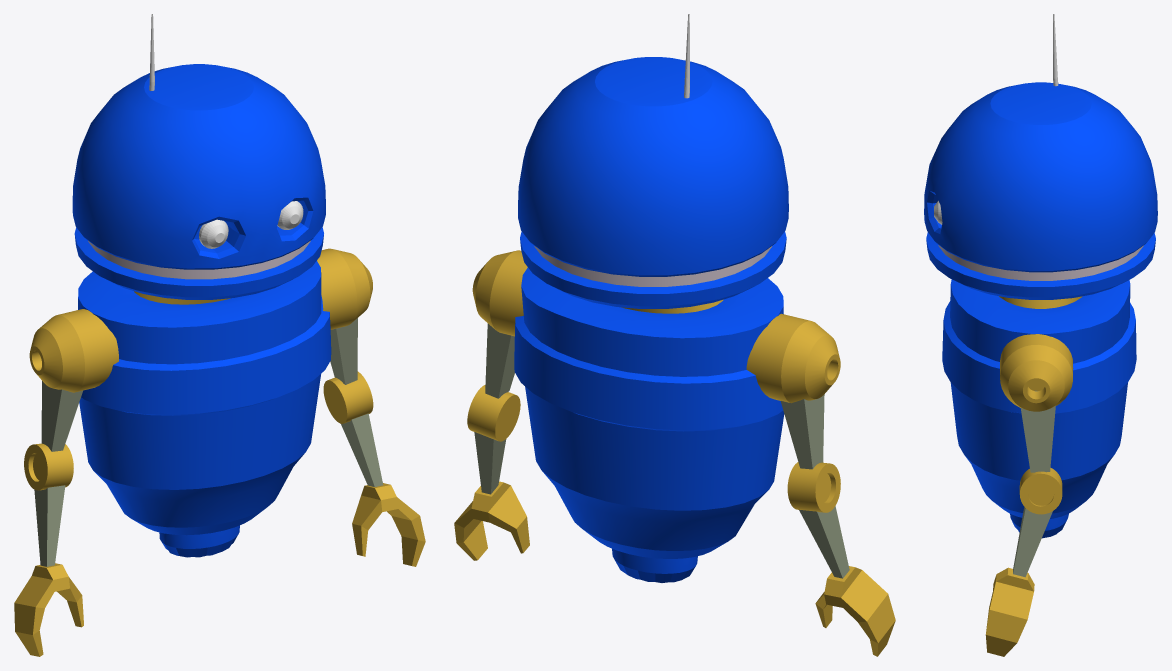
The model's file is robotBody.fbx.
The picture shows the model from 3 angles, left to right: view 1: azimuth 30°, elevation 25°; view 2: azimuth 150°, elevation 25°; view 3: azimuth 270°, elevation 25°; orthographic projection. The views are drawn at different scales.
Parts seen in each view (by area): view 1: Circle, Circle.002, Cube.004, Circle.003, Cube.005, Cube.001, Cylinder.001, Cube.002, Cylinder, Cube.003, Cube, Circle.005; view 2: Circle, Circle.002, Cube.004, Cube.005, Circle.003, Cube.001, Cylinder.001, Cylinder, Cube.002, Cube, Cube.003; view 3: Circle, Circle.003, Cube.005, Cube, Cylinder, Cube.003.
Part boxes in pixels (<box>): Circle: <box>72,64,331,557</box>; Circle.002: <box>29,309,118,392</box>; Cube.004: <box>14,563,83,656</box>; Circle.003: <box>317,248,372,329</box>; Cube.005: <box>352,483,425,566</box>; Cube.001: <box>41,381,82,451</box>; Cylinder.001: <box>24,443,73,490</box>; Cube.002: <box>34,485,65,566</box>; Cylinder: <box>323,371,373,423</box>; Cube.003: <box>341,413,383,486</box>; Cube: <box>330,318,357,384</box>; Circle.005: <box>199,219,228,248</box>; Circle: <box>514,57,788,582</box>; Circle.002: <box>746,313,840,403</box>; Cube.004: <box>815,566,895,656</box>; Cube.005: <box>454,481,529,560</box>; Circle.003: <box>472,250,527,336</box>; Cube.001: <box>780,394,824,469</box>; Cylinder.001: <box>787,462,840,512</box>; Cylinder: <box>467,385,520,441</box>; Cube.002: <box>799,506,849,578</box>; Cube: <box>485,323,514,398</box>; Cube.003: <box>474,432,506,494</box>; Circle: <box>924,82,1157,538</box>; Circle.003: <box>1000,334,1073,411</box>; Cube.005: <box>985,567,1034,656</box>; Cube: <box>1020,390,1055,472</box>; Cylinder: <box>1019,468,1062,514</box>; Cube.003: <box>1013,507,1052,577</box>.
Size of the model in its own units: 354 by 503 by 197.
